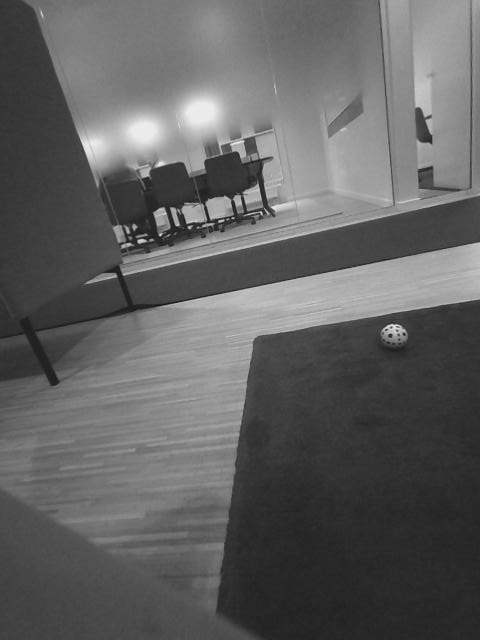dogtoy: (373, 319, 416, 353)
